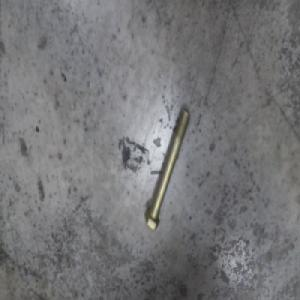Bolt: (144, 110, 190, 231)
